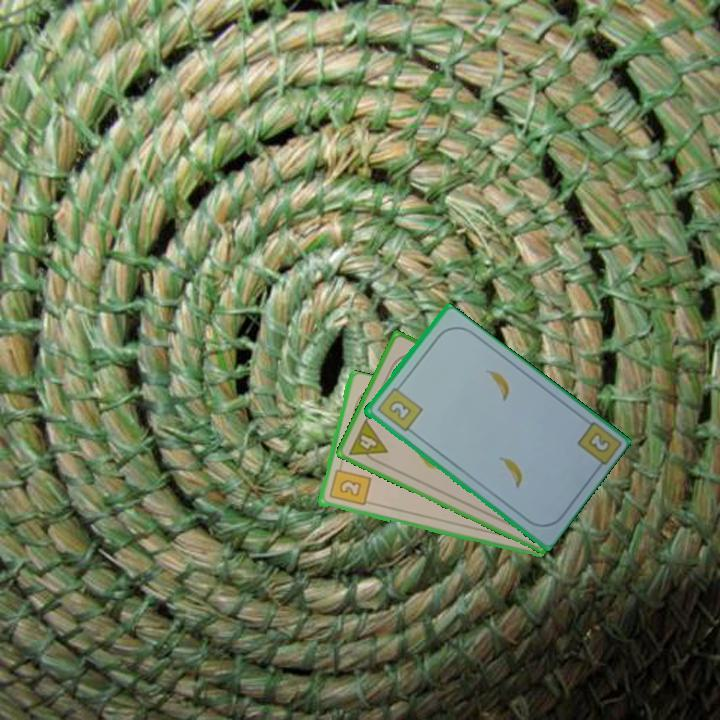2b: (373, 380, 425, 434), (573, 418, 622, 474), (326, 460, 373, 509)
4p: (345, 416, 390, 468)
